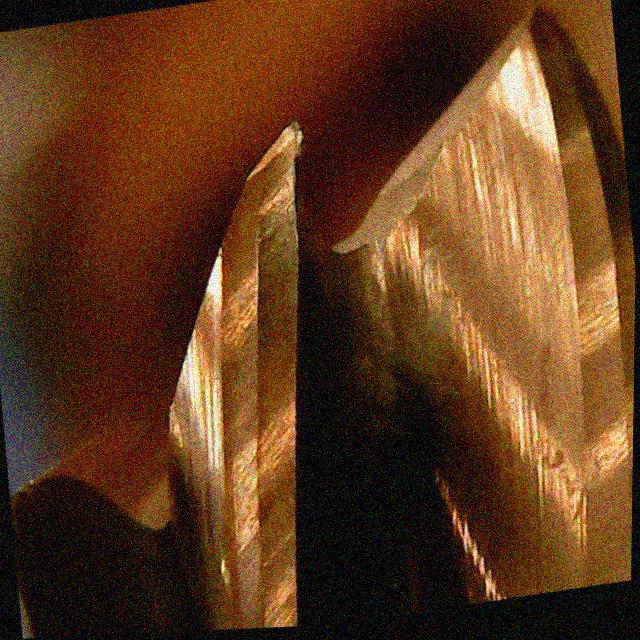Tool-wear-class-1: (203, 116, 332, 318)
